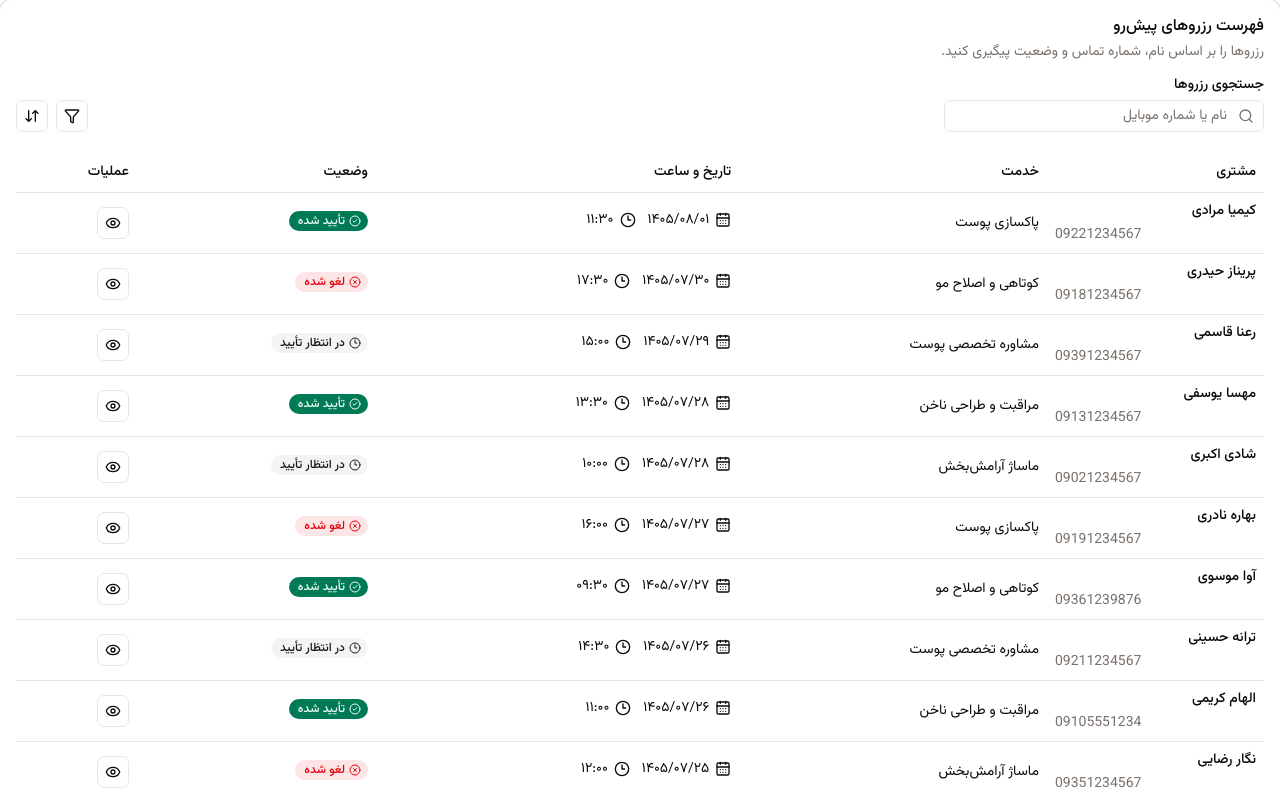
Test: Reservation details and status actions › keeps the prior status when an update fails
The width and height of the screenshot is (1280, 800).
Click the button named "مشاهده جزئیات" in the row of "ترانه حسینی".
click(113, 650)  # box [97, 634, 129, 666]
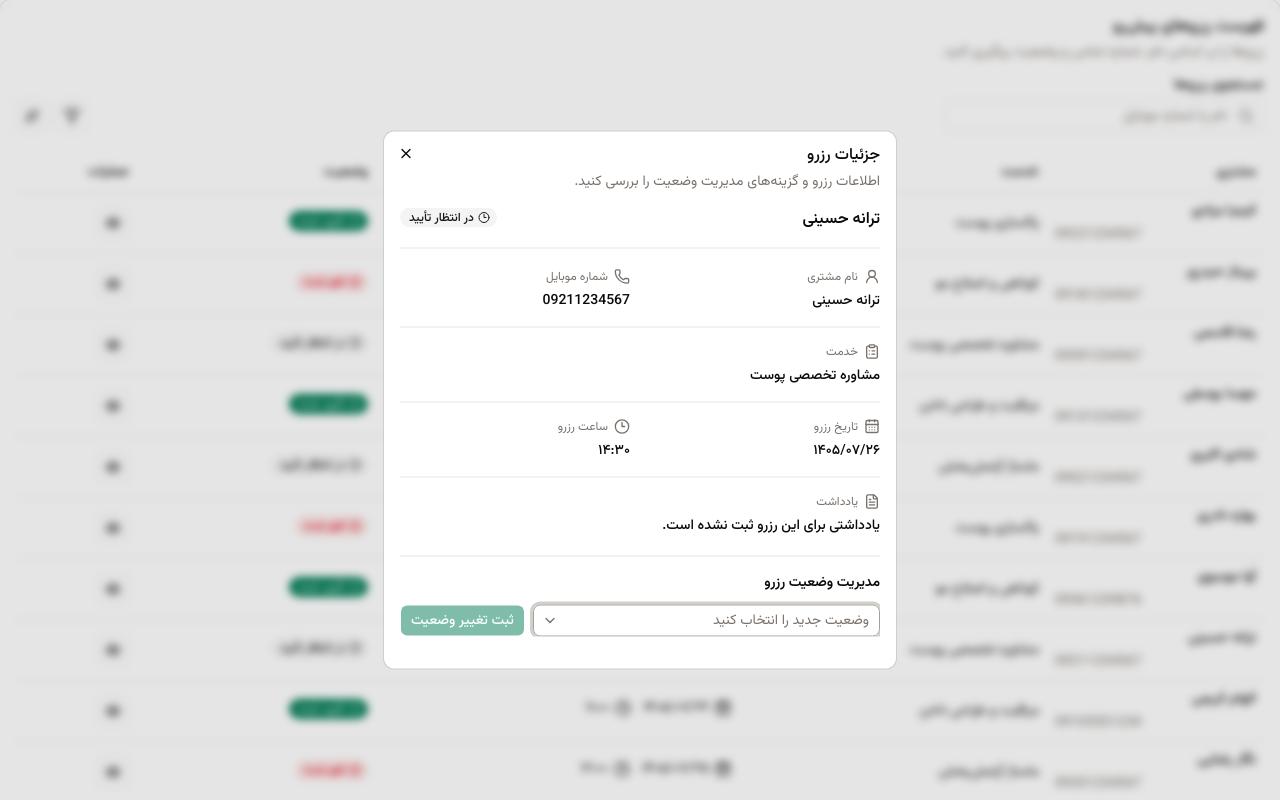
Click the dropdown labelled "وضعیت جدید".
click(791, 620)  # box [533, 604, 880, 636]
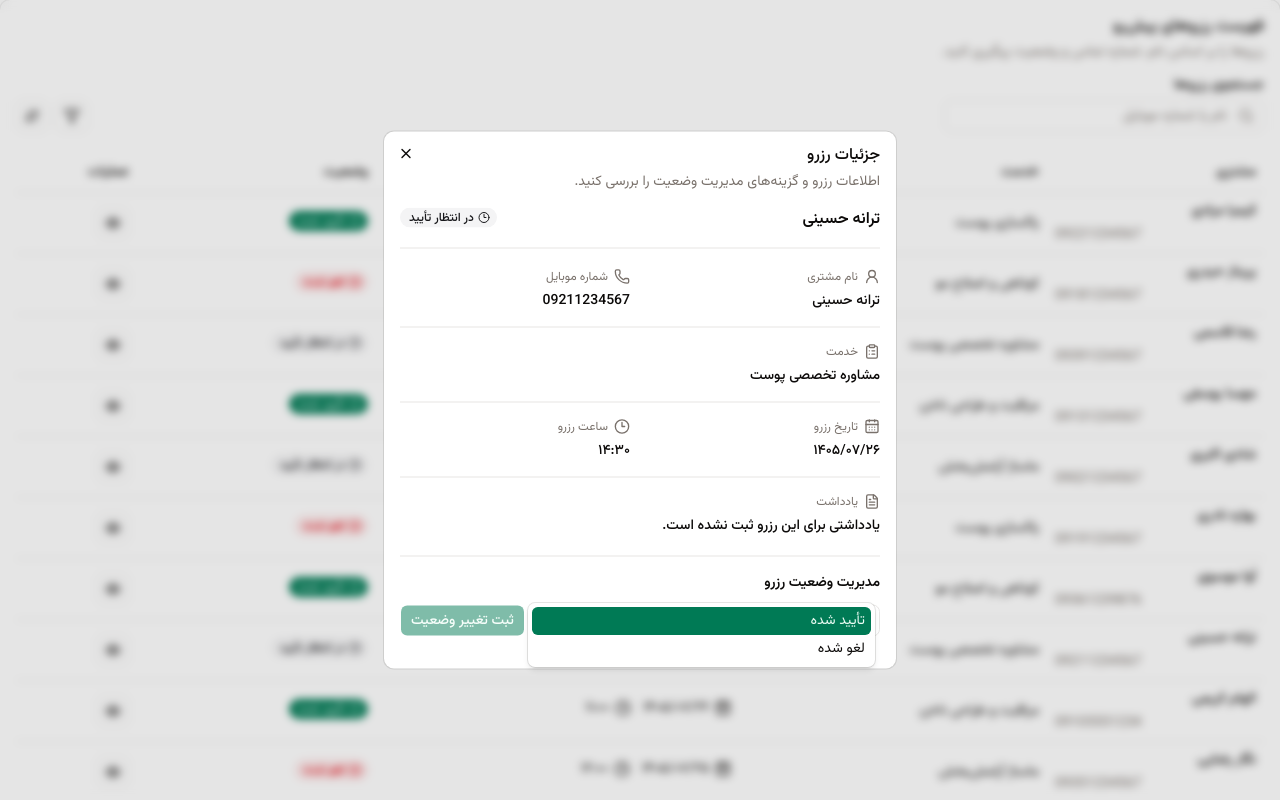
Click the option "تأیید شده".
click(838, 620)  # box [532, 606, 871, 634]
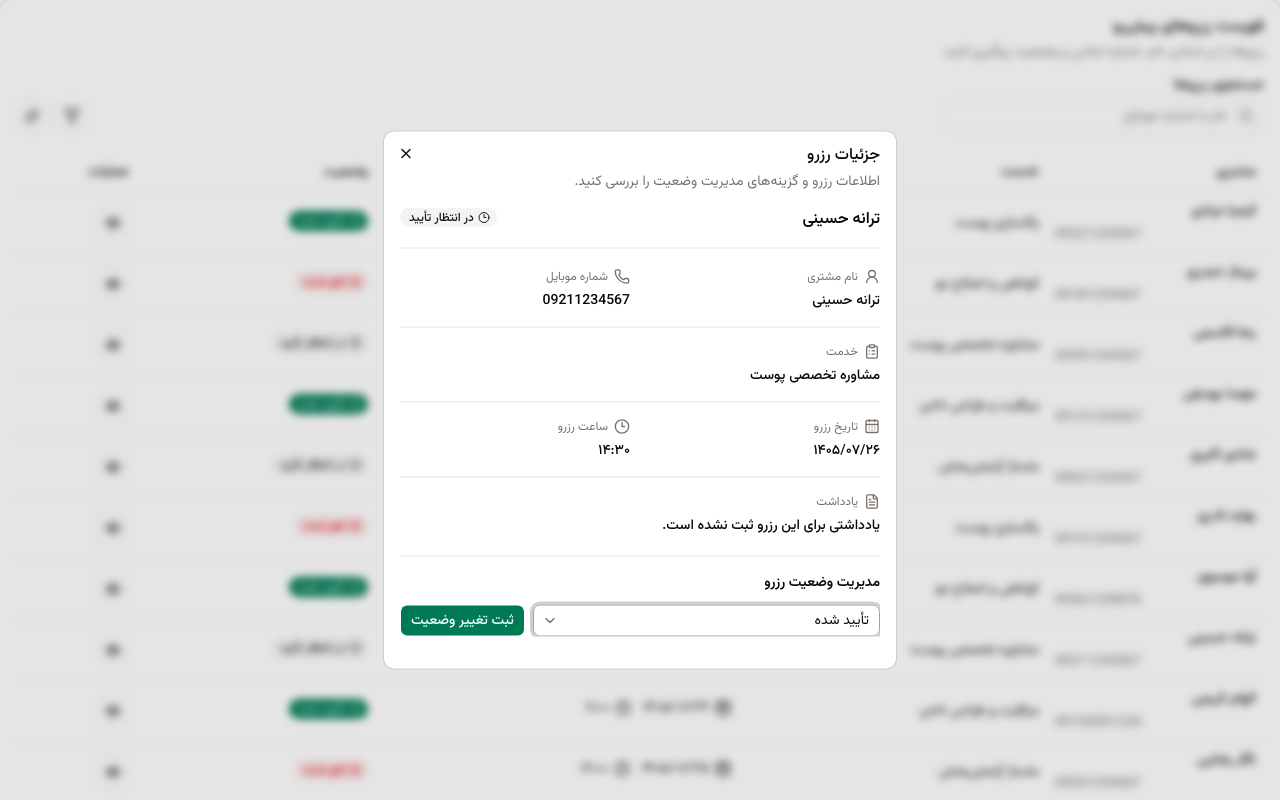
Click the button "ثبت تغییر وضعیت".
click(462, 620)  # box [400, 604, 525, 636]
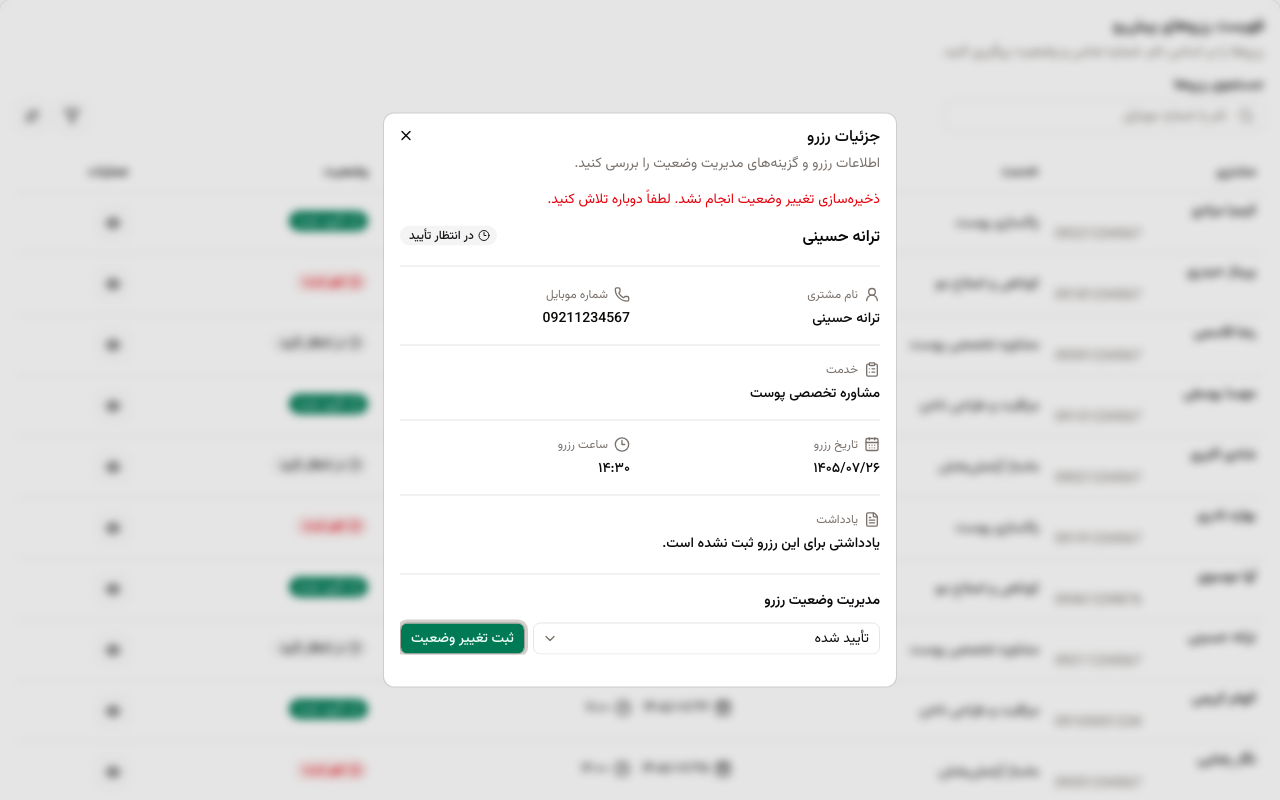
expect the text "در انتظار تأیید" is shown: met, box [400, 226, 497, 246]
expect the message shows "ذخیره‌سازی تغییر وضعیت انجام نشد": met, box [548, 190, 880, 210]
